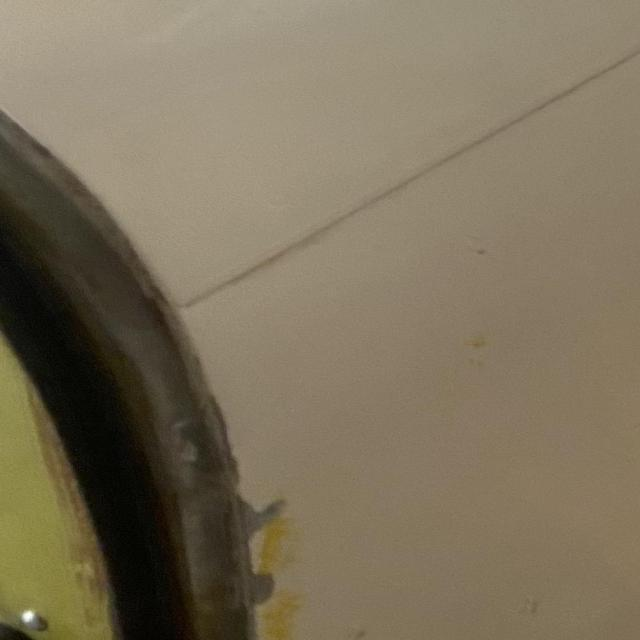Paint-off: (238, 502, 292, 574), (245, 571, 301, 636)
